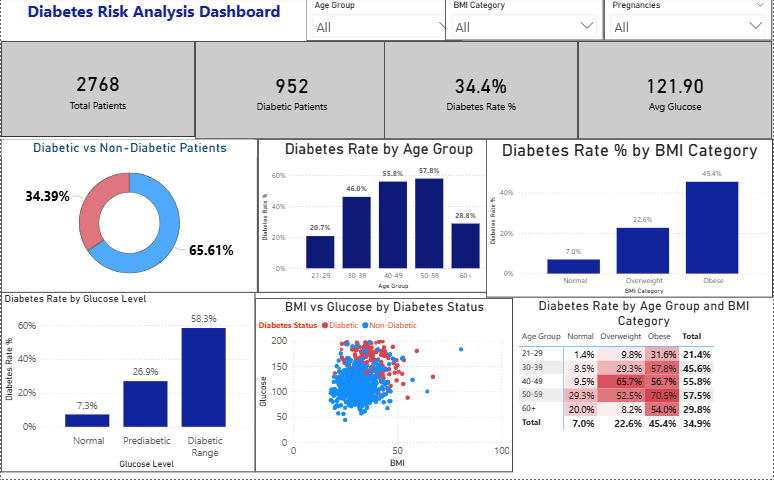

The dashboard page shown, as its layout file describes it:
{"tool":"powerbi","page":{"name":"Dashboard","canvas":[1280,800],"ordinal":8},"visuals":[{"type":"slicer","fields":{"Values":["Healthcare-Diabetes.Age Group"]},"box":[506.2,0,258.9,73],"z":0},{"type":"slicer","fields":{"Values":["Healthcare-Diabetes.BMI Category"]},"box":[737.2,0,263.4,72.5],"z":1000},{"type":"slicer","fields":{"Values":["Healthcare-Diabetes.Pregnancies"]},"box":[1000.7,0,279.3,72.5],"z":2000},{"type":"card","fields":{"Values":["Healthcare-Diabetes.Total Patients"]},"box":[0,72.5,321.8,159.1],"z":3000},{"type":"card","fields":{"Values":["Healthcare-Diabetes.Diabetic Patients"]},"box":[321.8,72.5,321.8,162.7],"z":4000},{"type":"card","fields":{"Values":["Healthcare-Diabetes.Diabetes Rate %"]},"box":[636.5,72.5,321.8,162.7],"z":5000},{"type":"card","fields":{"Values":["Healthcare-Diabetes.Avg Glucose"]},"box":[958.2,72.5,321.8,162.7],"z":6000},{"type":"donutChart","title":"Diabetic vs Non-Diabetic Patients","fields":{"Category":["Healthcare-Diabetes.Diabetes Status"],"Y":["Healthcare-Diabetes.Total Patients"]},"box":[0,235.1,426.1,254.6],"z":7000},{"type":"clusteredColumnChart","title":"Diabetes Rate by Age Group","fields":{"Category":["Healthcare-Diabetes.Age Group"],"Y":["Healthcare-Diabetes.Diabetes Rate %"]},"box":[426.1,235.1,399.6,254.6],"z":8000},{"type":"clusteredColumnChart","fields":{"Category":["Healthcare-Diabetes.BMI Category"],"Y":["Healthcare-Diabetes.Diabetes Rate %"]},"box":[804.4,235.1,475.6,263.4],"z":9000},{"type":"clusteredColumnChart","title":"Diabetes Rate by Glucose Level","fields":{"Category":["Healthcare-Diabetes.Glucose Level"],"Y":["Healthcare-Diabetes.Diabetes Rate %"]},"box":[0,489.6,421.6,298.8],"z":10000},{"type":"scatterChart","title":"BMI vs Glucose by Diabetes Status","fields":{"Category":["Healthcare-Diabetes.Id"],"X":["Sum(Healthcare-Diabetes.BMI)"],"Y":["Sum(Healthcare-Diabetes.Glucose)"],"Series":["Healthcare-Diabetes.Diabetes Status"]},"box":[421.6,499.6,428.2,288.8],"z":11000},{"type":"pivotTable","title":"Diabetes Rate by Age Group and BMI Category","fields":{"Rows":["Healthcare-Diabetes.Age Group"],"Columns":["Healthcare-Diabetes.BMI Category"],"Values":["Healthcare-Diabetes.Diabetes Rate %"]},"box":[854.8,499.6,424.9,227.4],"z":12000},{"type":"textbox","box":[0,0,507.4,72.5],"z":13000}]}

Visuals, with their boxes in screenshot pixels (x1, y1, x2, y2), scaled from the page's 1280x800 canvas onto the 774x480 screenshot:
slicer - Healthcare-Diabetes.Age Group: (306,0,463,44)
slicer - Healthcare-Diabetes.BMI Category: (446,0,605,44)
slicer - Healthcare-Diabetes.Pregnancies: (605,0,773,44)
card - Healthcare-Diabetes.Total Patients: (0,44,195,139)
card - Healthcare-Diabetes.Diabetic Patients: (195,44,389,141)
card - Healthcare-Diabetes.Diabetes Rate %: (385,44,579,141)
card - Healthcare-Diabetes.Avg Glucose: (579,44,773,141)
"Diabetic vs Non-Diabetic Patients" donutChart: (0,141,258,294)
"Diabetes Rate by Age Group" clusteredColumnChart: (258,141,499,294)
clusteredColumnChart - Healthcare-Diabetes.BMI Category x Healthcare-Diabetes.Diabetes Rate %: (486,141,773,299)
"Diabetes Rate by Glucose Level" clusteredColumnChart: (0,294,255,473)
"BMI vs Glucose by Diabetes Status" scatterChart: (255,300,514,473)
"Diabetes Rate by Age Group and BMI Category" pivotTable: (517,300,773,436)
textbox: (0,0,307,44)
